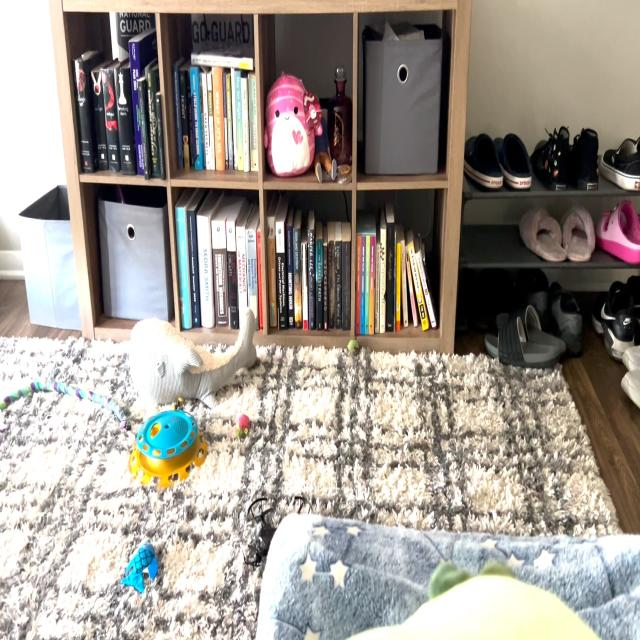drone: (239, 488, 315, 598)
